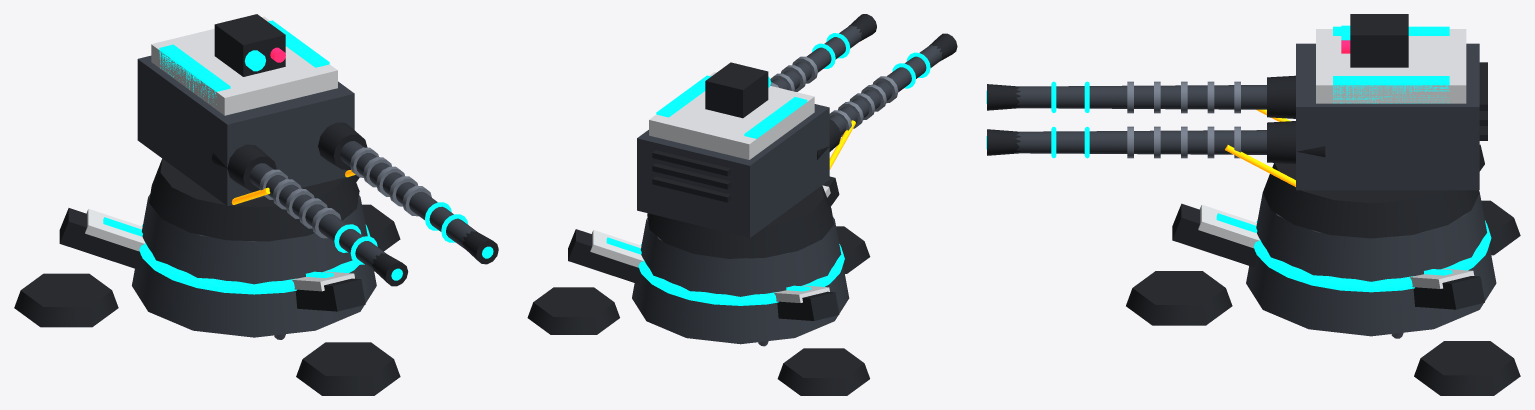
The model's file is player_laser_turret.glb.
3 renders of one model, left to right at view 1: azimuth 30°, elevation 25°; view 2: azimuth 150°, elevation 25°; view 3: azimuth 270°, elevation 25°, orthographic. The views are drawn at different scales.
Parts seen in each view (by area): view 1: Player_Laser_Turret; view 2: Player_Laser_Turret; view 3: Player_Laser_Turret.
Boxes of the visible parts, x1,y1,x2,y2 form: Player_Laser_Turret: [14, 14, 498, 395]; Player_Laser_Turret: [527, 14, 957, 395]; Player_Laser_Turret: [986, 14, 1520, 395].
Size of the model in its own units: 2.55 by 1.94 by 3.2.
